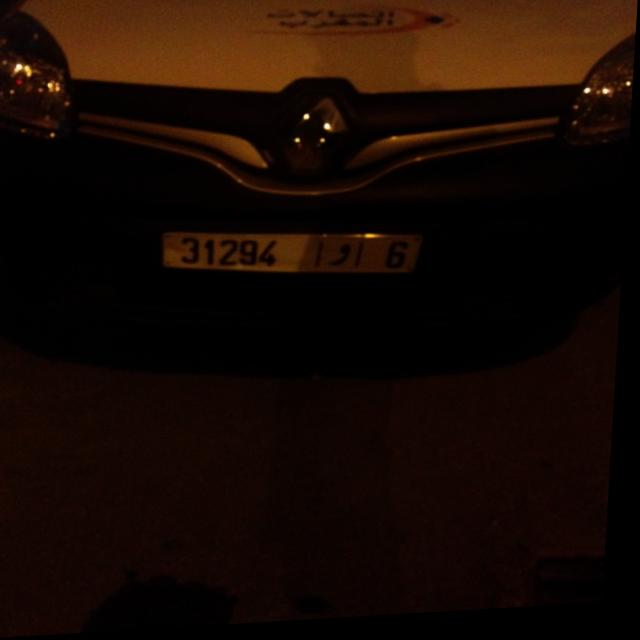License-Plate: (165, 234, 426, 278)
